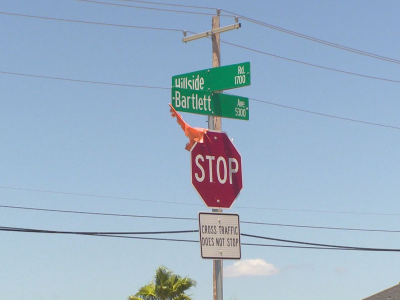stop: (193, 138, 242, 197)
